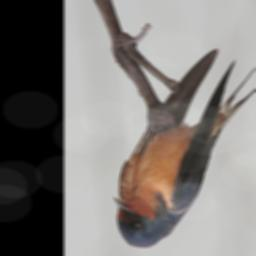Swallow: (112, 49, 256, 251)
